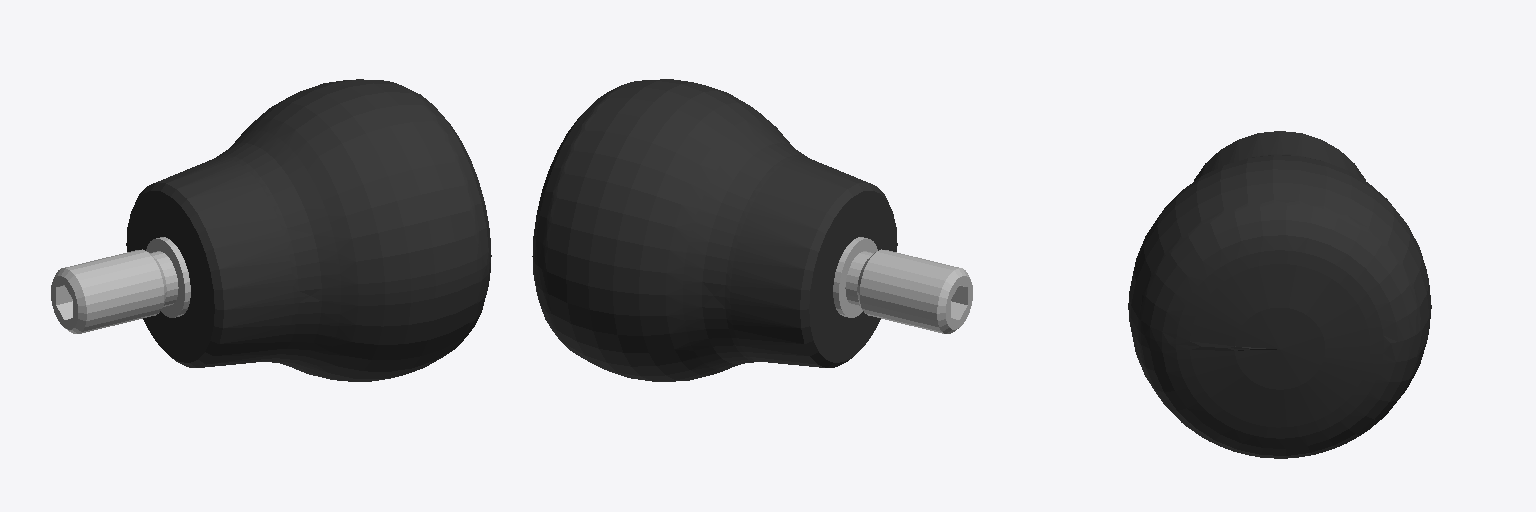
The picture shows the model from 3 angles: view 1: azimuth 30°, elevation 25°; view 2: azimuth 150°, elevation 25°; view 3: azimuth 270°, elevation 25°; orthographic projection.
Parts seen in each view (by area): view 1: gn_597_1-45-47-m10_1; view 2: gn_597_1-45-47-m10_1; view 3: gn_597_1-45-47-m10_1.
Part boxes in pixels (bbox=[...]): gn_597_1-45-47-m10_1: bbox=[51, 79, 491, 381]; gn_597_1-45-47-m10_1: bbox=[532, 79, 972, 381]; gn_597_1-45-47-m10_1: bbox=[1128, 131, 1431, 458].
Size of the model in its own units: 65 by 44.56 by 44.6.